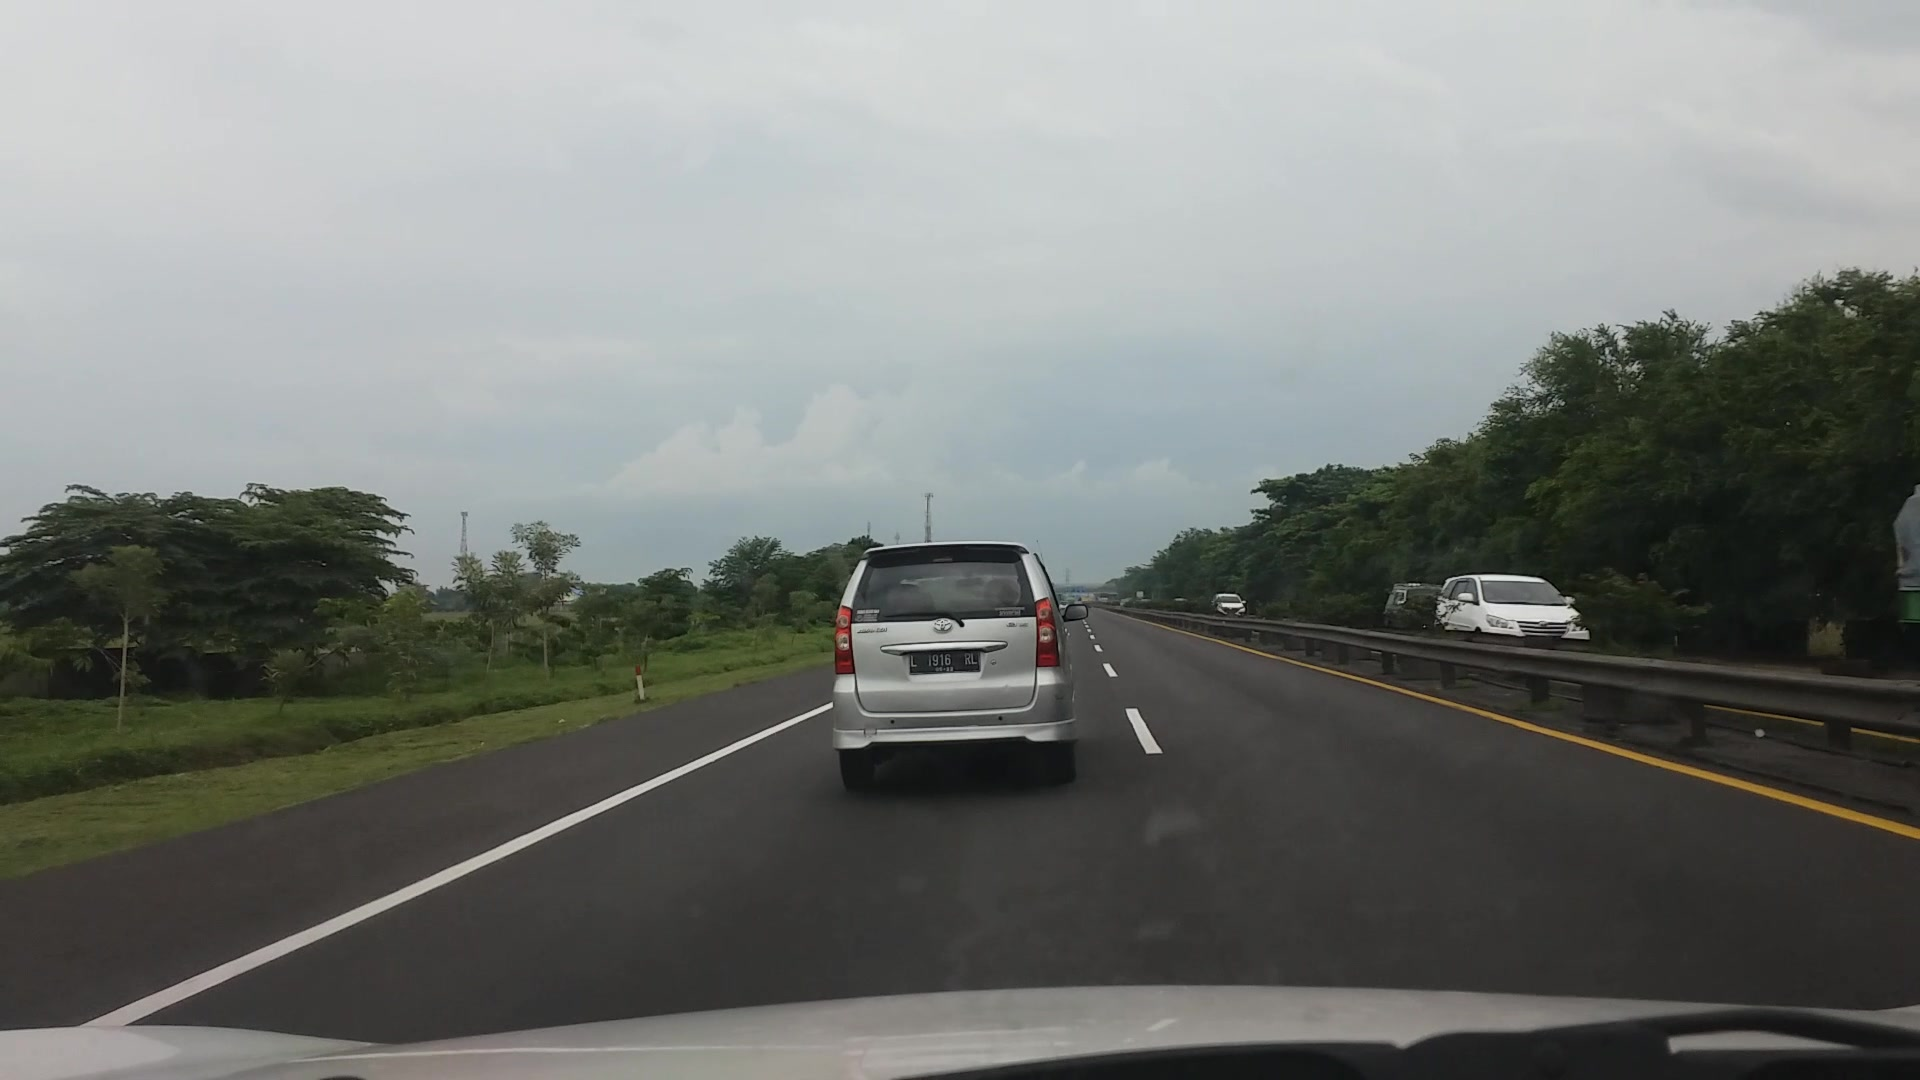plate_positive: (909, 651, 980, 674)
